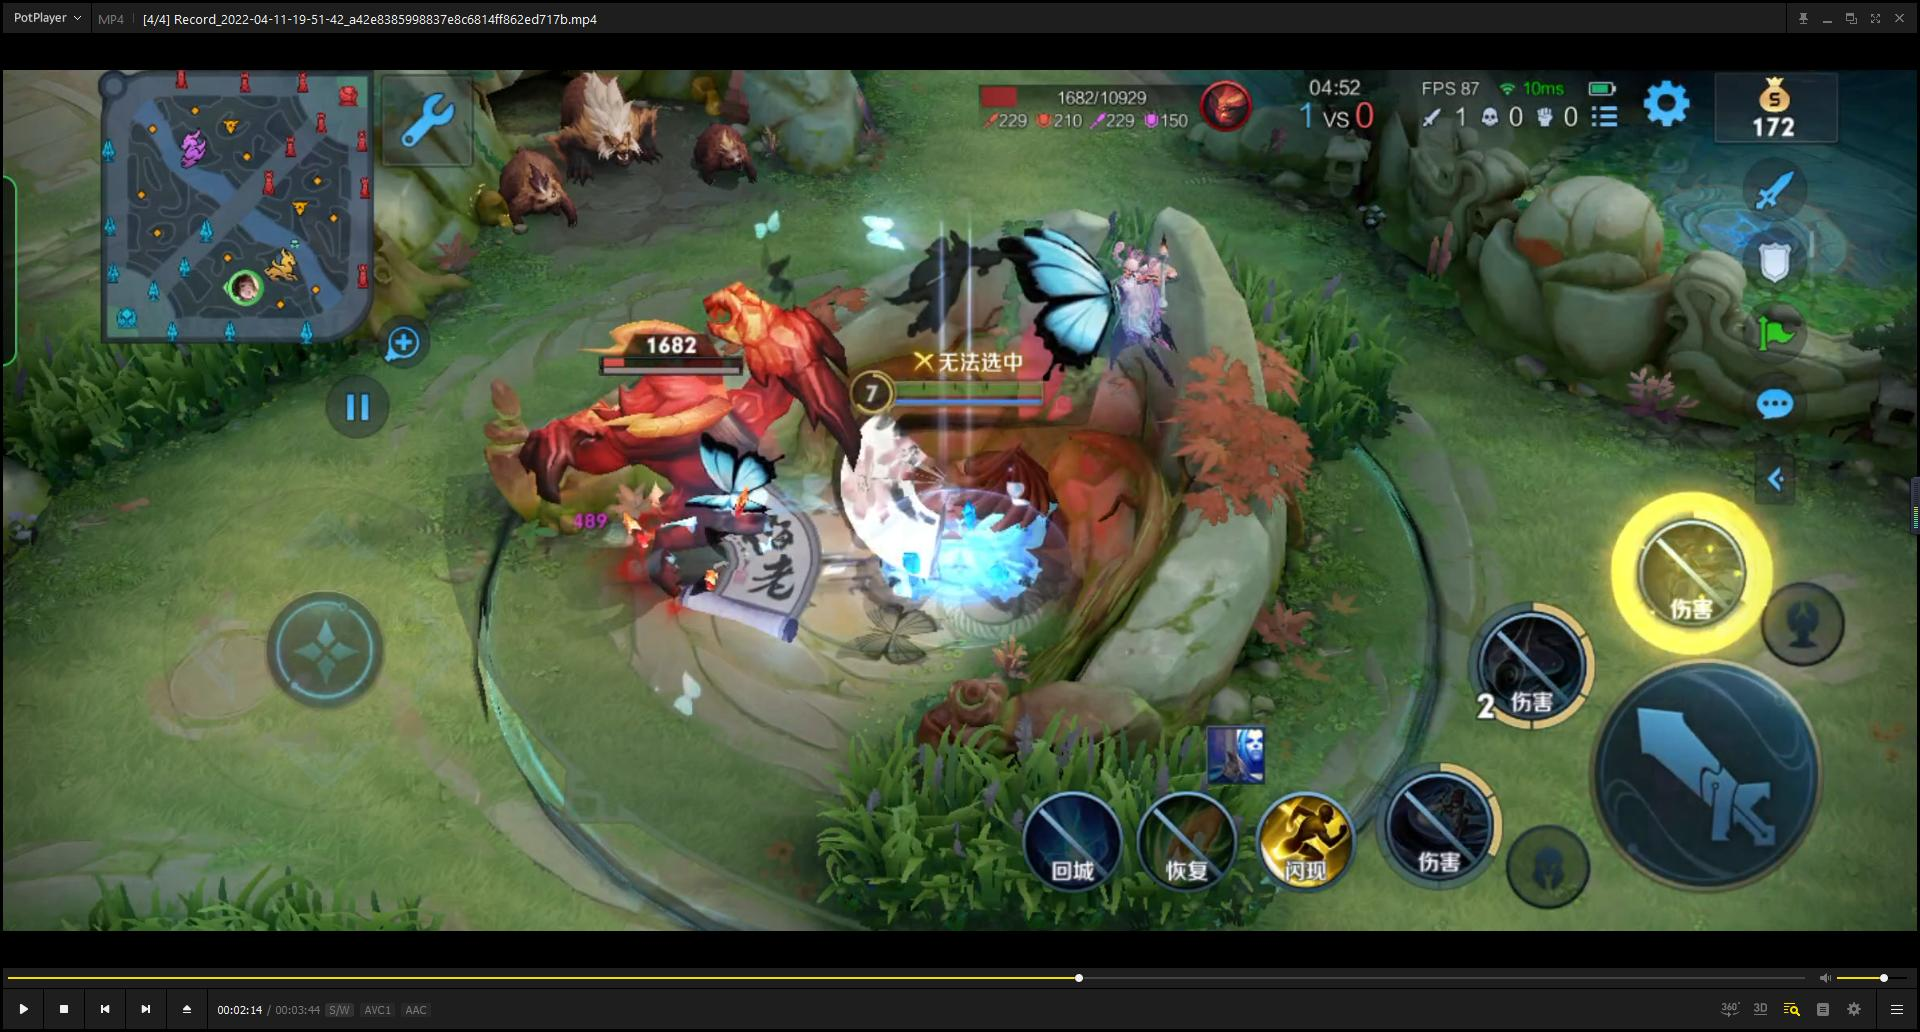Buff: (478, 273, 858, 628)
Hero: (820, 214, 1166, 669)
Pig: (531, 70, 668, 191), (473, 130, 588, 235), (672, 109, 759, 186)
